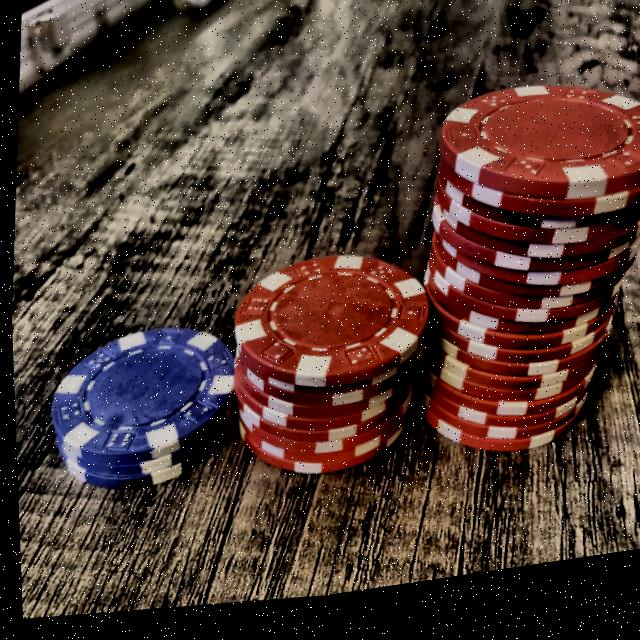Chip: (399, 75, 640, 488), (216, 247, 436, 501), (40, 316, 244, 509)
